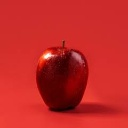apple: (35, 40, 89, 113)
